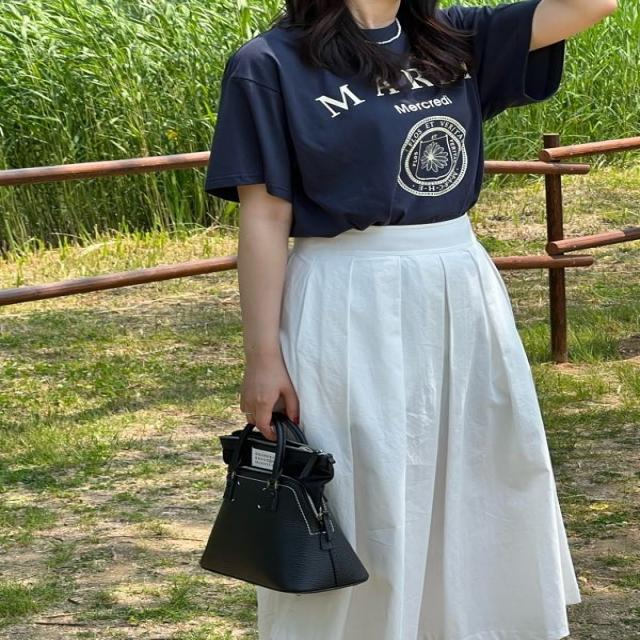shortsleeve: (207, 4, 567, 240)
skirt: (278, 220, 584, 640)
